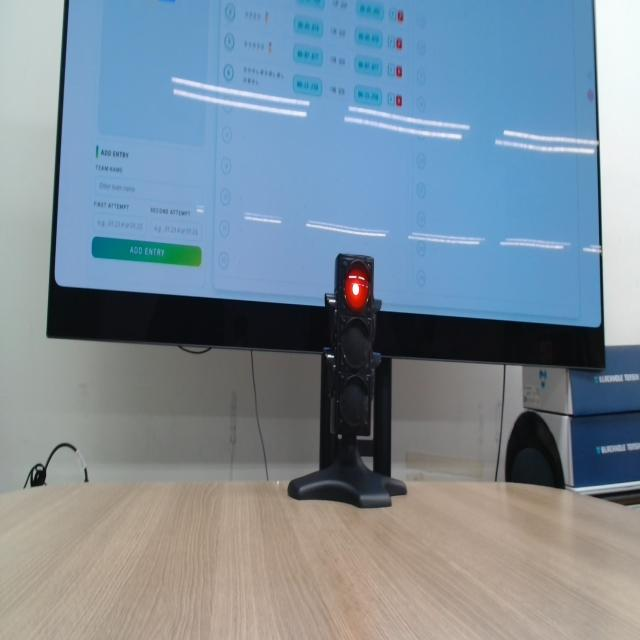red_light: (345, 267, 369, 311)
